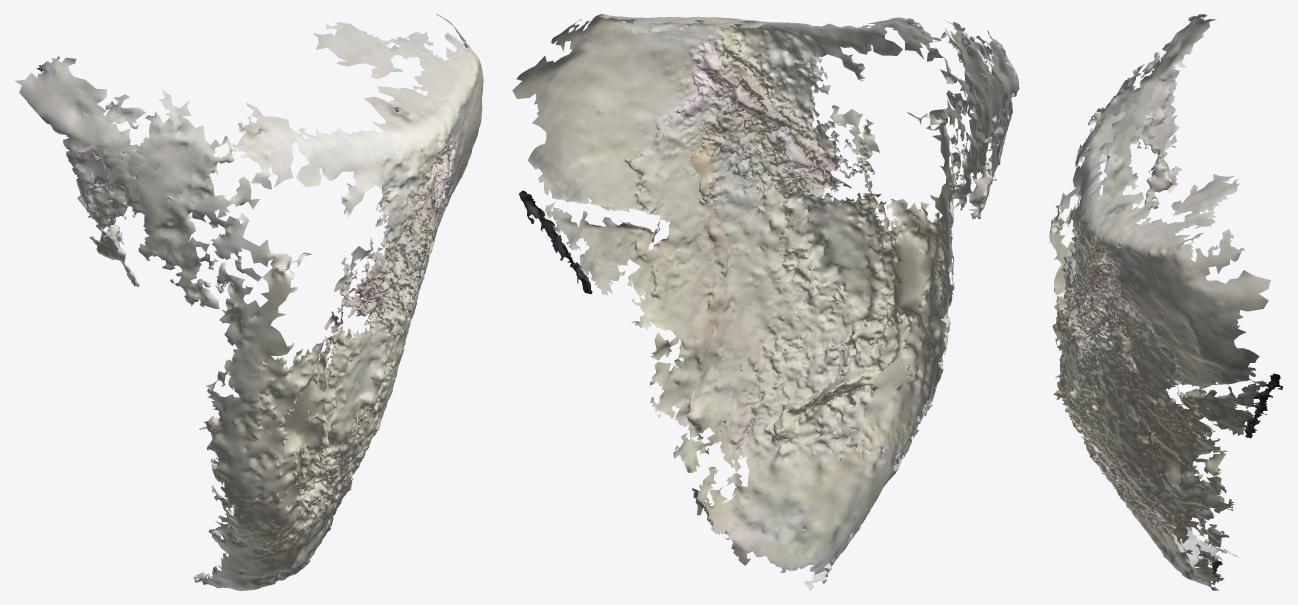
File: JV2026-003-stone-only-tuned.glb
The picture shows the model from 3 angles, left to right: view 1: azimuth 30°, elevation 25°; view 2: azimuth 150°, elevation 25°; view 3: azimuth 270°, elevation 25°; orthographic projection. The views are drawn at different scales.
Visible parts, largest first — view 1: JV2026-003-stone-only-tuned; view 2: JV2026-003-stone-only-tuned; view 3: JV2026-003-stone-only-tuned.
Part boxes in pixels (x1,y1,x2,y2): JV2026-003-stone-only-tuned: (15, 14, 483, 590); JV2026-003-stone-only-tuned: (512, 14, 1019, 590); JV2026-003-stone-only-tuned: (1049, 14, 1283, 590).
Bounding box in the file's own units: 1.44 × 1.69 × 0.7447.
Materials: 1 (1 with a texture image).
